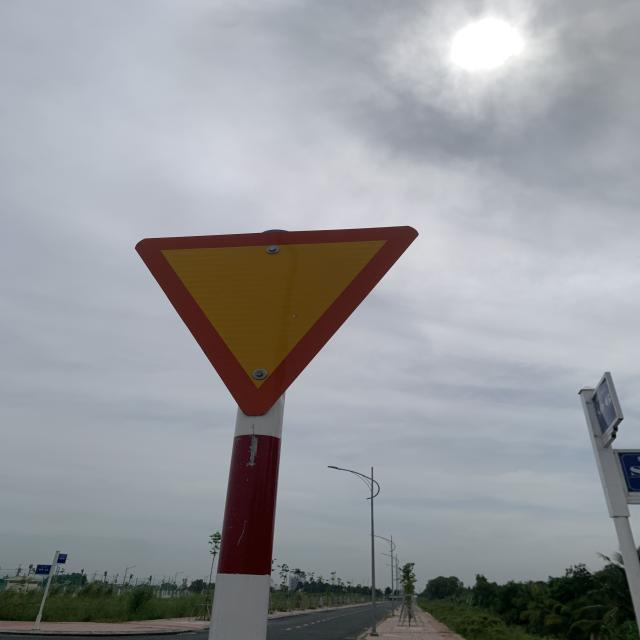Gioi_Han_Toc_Do_25: (134, 222, 416, 418)
